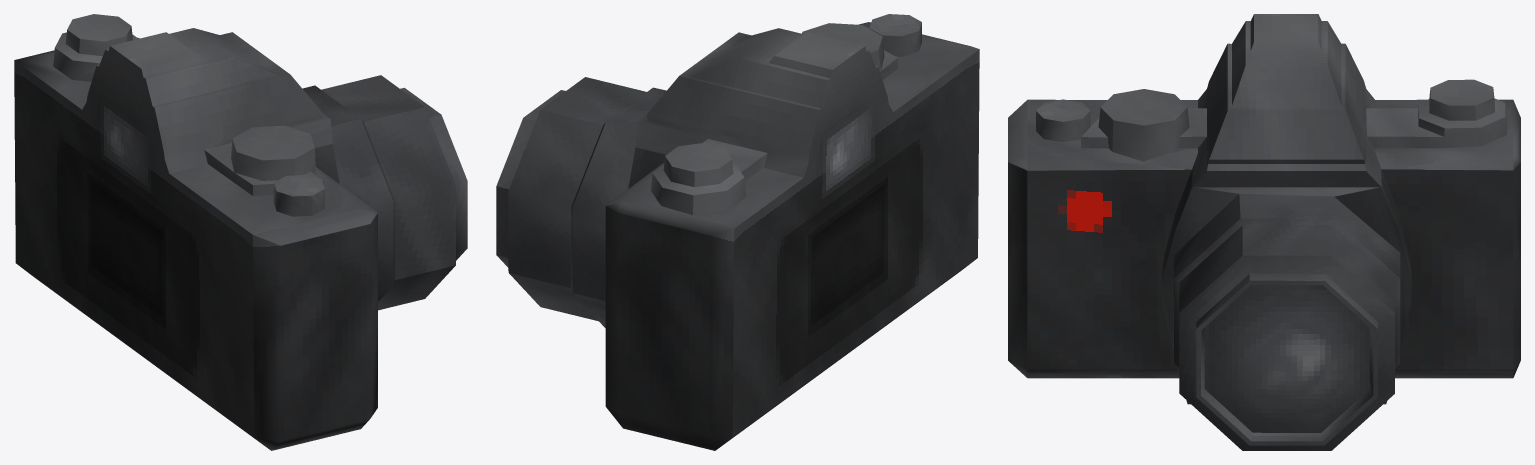
The model's file is Camera.glb.
The picture shows the model from 3 angles, left to right: view 1: azimuth 30°, elevation 25°; view 2: azimuth 150°, elevation 25°; view 3: azimuth 270°, elevation 25°; orthographic projection. The views are drawn at different scales.
Visible parts, largest first — view 1: M_Camera_T_Camera_0; view 2: M_Camera_T_Camera_0; view 3: M_Camera_T_Camera_0.
Part boxes in pixels (<box>): M_Camera_T_Camera_0: <box>14,14,467,450</box>; M_Camera_T_Camera_0: <box>496,14,979,450</box>; M_Camera_T_Camera_0: <box>1008,14,1520,450</box>.
Size of the model in its own units: 0.0205 by 0.0199 by 0.0297.
1 material, 1 textured.
